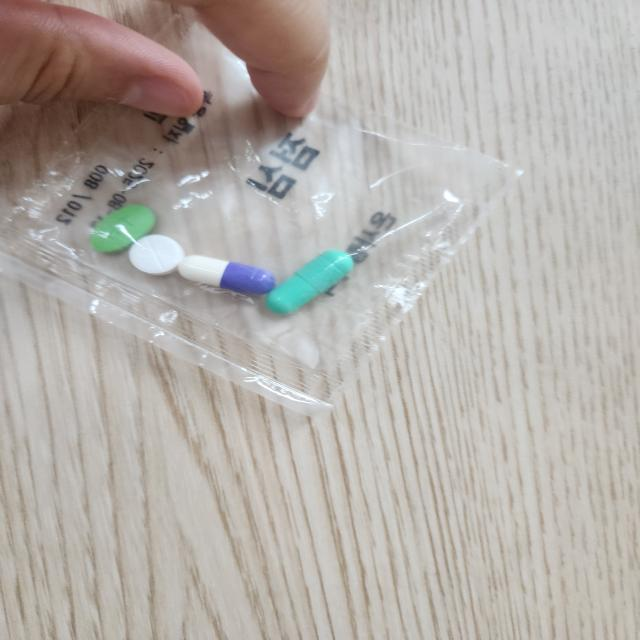러키펜정: (129, 234, 185, 277)
씨엠지세파클러캡슐: (176, 256, 278, 298)
에르도캡슐: (256, 251, 359, 319)
휴티렌정: (84, 204, 156, 256)
